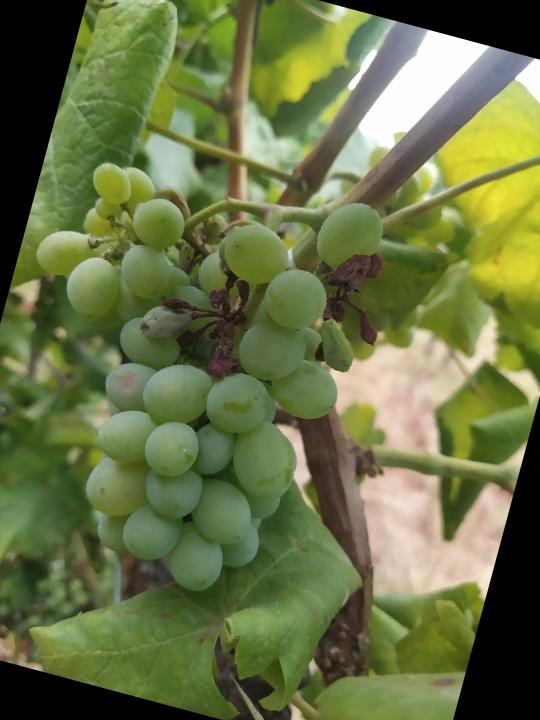grape: (0, 122, 414, 624)
